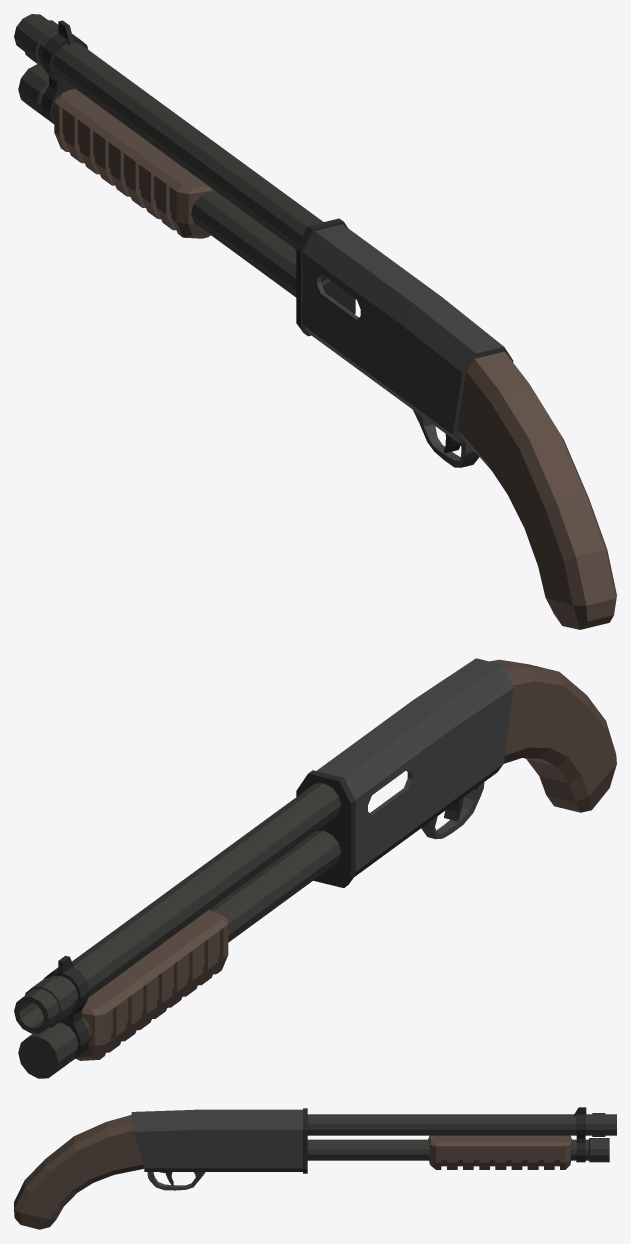
File: UCombatSG.glb
3 renders of one model, top to bottom at view 1: azimuth 30°, elevation 25°; view 2: azimuth 150°, elevation 25°; view 3: azimuth 270°, elevation 25°, orthographic. The views are drawn at different scales.
Visible parts, largest first — view 1: Shotgun_ShortStock_df3230, Shotgun_ShortStock_6a208c, Shotgun_ShortStock_62e261, Shotgun_ShortStock_90dba2; view 2: Shotgun_ShortStock_62e261, Shotgun_ShortStock_df3230, Shotgun_ShortStock_6a208c, Shotgun_ShortStock_90dba2; view 3: Shotgun_ShortStock_df3230, Shotgun_ShortStock_6a208c, Shotgun_ShortStock_62e261, Shotgun_ShortStock_90dba2.
Boxes of the visible parts, left/top/right/bottom form: Shotgun_ShortStock_df3230: left=54, top=88, right=616, bottom=629; Shotgun_ShortStock_6a208c: left=302, top=224, right=513, bottom=467; Shotgun_ShortStock_62e261: left=14, top=14, right=330, bottom=297; Shotgun_ShortStock_90dba2: left=41, top=20, right=460, bottom=453; Shotgun_ShortStock_62e261: left=14, top=783, right=340, bottom=1078; Shotgun_ShortStock_df3230: left=76, top=659, right=616, bottom=1060; Shotgun_ShortStock_6a208c: left=317, top=658, right=513, bottom=876; Shotgun_ShortStock_90dba2: left=43, top=770, right=463, bottom=1061; Shotgun_ShortStock_df3230: left=14, top=1115, right=571, bottom=1229; Shotgun_ShortStock_6a208c: left=131, top=1109, right=302, bottom=1190; Shotgun_ShortStock_62e261: left=307, top=1113, right=616, bottom=1162; Shotgun_ShortStock_90dba2: left=160, top=1107, right=586, bottom=1185.
Bounding box in the file's own units: 0.0551 × 0.2162 × 1.
